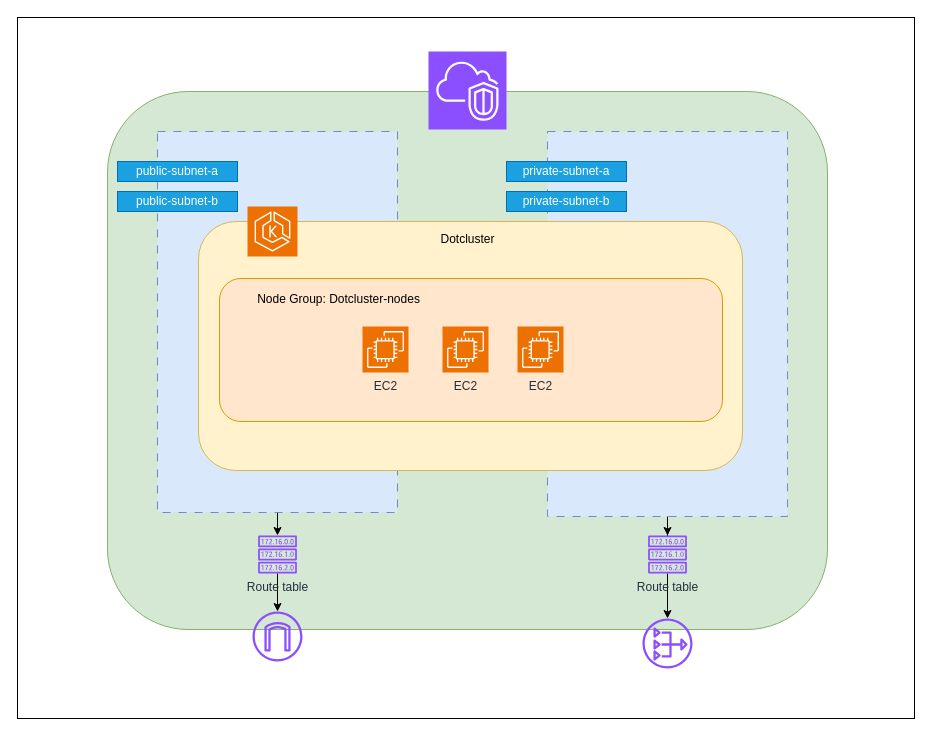
This 932x736 diagram has some shape labels left out. Here are the shapes that lost their labels. From the top down, the box of each, then its label:
(428, 50, 506, 130): VPC
(246, 206, 298, 256): EKS
(252, 611, 302, 661): Internet Gateway
(642, 618, 692, 668): NAT Gateway
